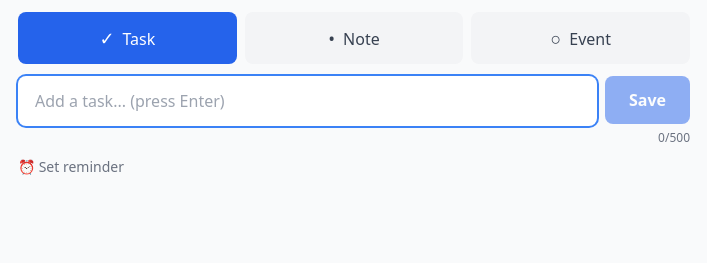
EntryInput — reminder section › clicking toggle shows date and time pickers
The image size is (707, 263).
Click the button "⏰ Set reminder" at (71, 167), box [18,157,124,177]
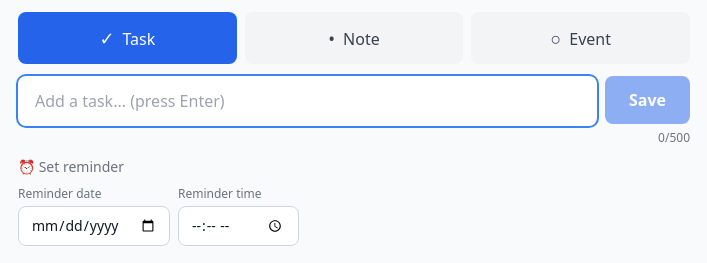
Expected: the date field labelled "Reminder date" is shown, [18,206,170,246]
Expected: the time field labelled "Reminder time" is shown, [178,206,299,246]
